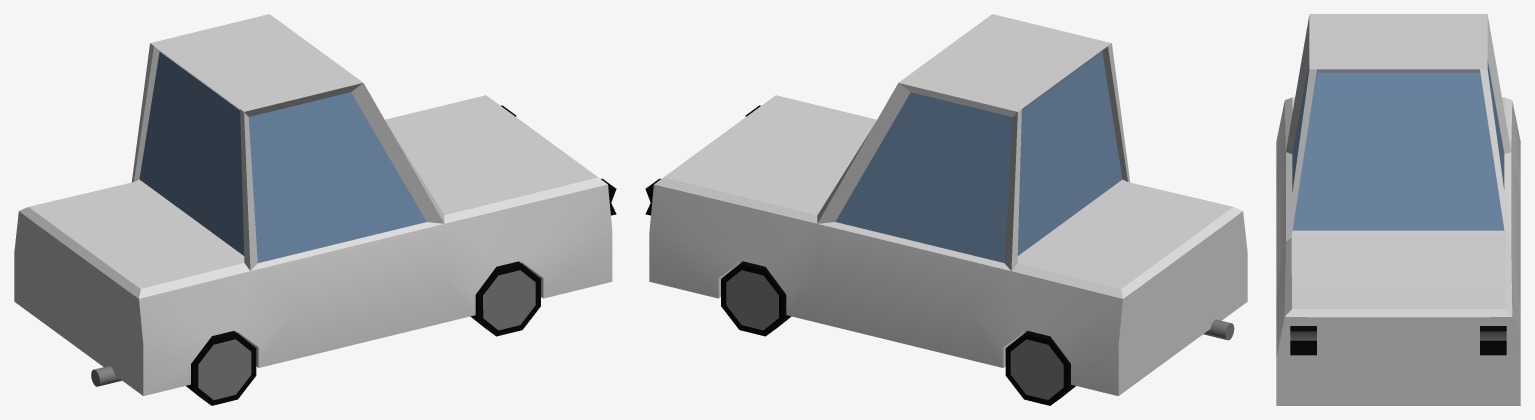
File: Decoration_Car_White.fbx
The picture shows the model from 3 angles, left to right: view 1: azimuth 30°, elevation 25°; view 2: azimuth 150°, elevation 25°; view 3: azimuth 270°, elevation 25°; orthographic projection. The views are drawn at different scales.
Visible parts, largest first — view 1: pCube1, pCylinder3, pCylinder1; view 2: pCube1, pCylinder2, pCylinder4; view 3: pCube1, pCube2, pCube3.
Part boxes in pixels (left/top/right/bottom): pCube1: left=14, top=14, right=612, bottom=395; pCylinder3: left=470, top=261, right=540, bottom=336; pCylinder1: left=186, top=331, right=256, bottom=405; pCube1: left=649, top=14, right=1247, bottom=396; pCylinder2: left=1005, top=331, right=1075, bottom=405; pCylinder4: left=721, top=261, right=791, bottom=336; pCube1: left=1276, top=14, right=1520, bottom=405; pCube2: left=1290, top=326, right=1316, bottom=355; pCube3: left=1480, top=326, right=1506, bottom=355.
Size of the model in its own units: 2.22 by 1.15 by 1.
